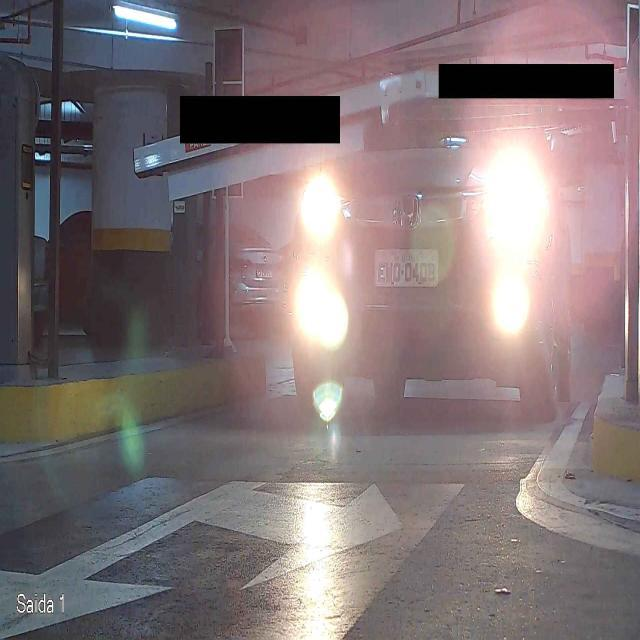old_plate: (372, 247, 441, 289)
